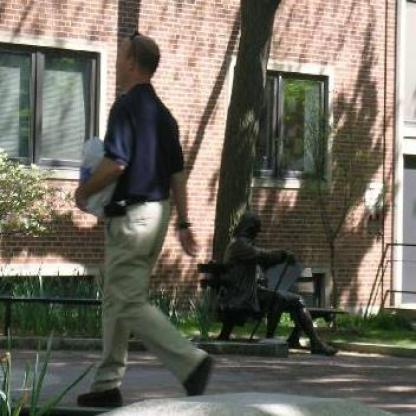person: (68, 28, 217, 404)
